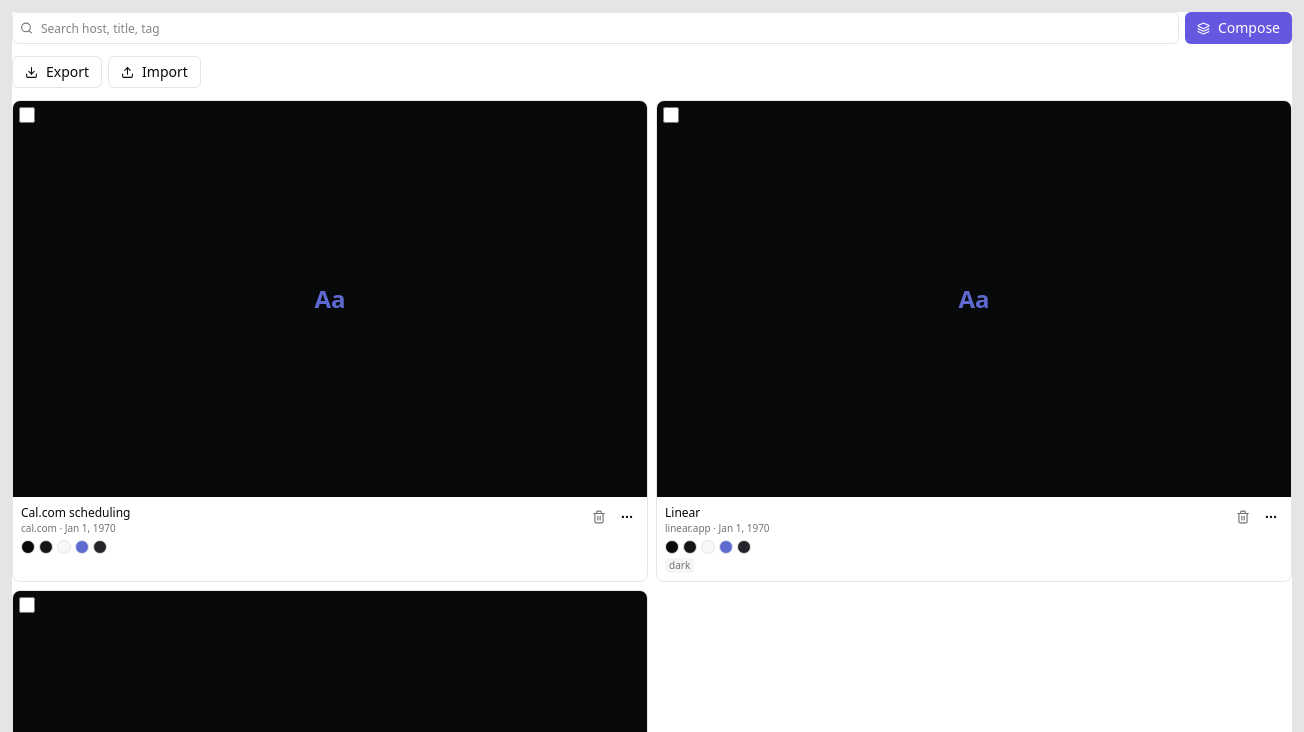
Scenario: Library view (component) › T4.07 a rename that cannot be stored shows an error and keeps the old title (audit M13)
Step 1. Click the button named "More actions" in the row of "linear.app ·" → {"x": 1271, "y": 517}, box [1259, 505, 1283, 529]
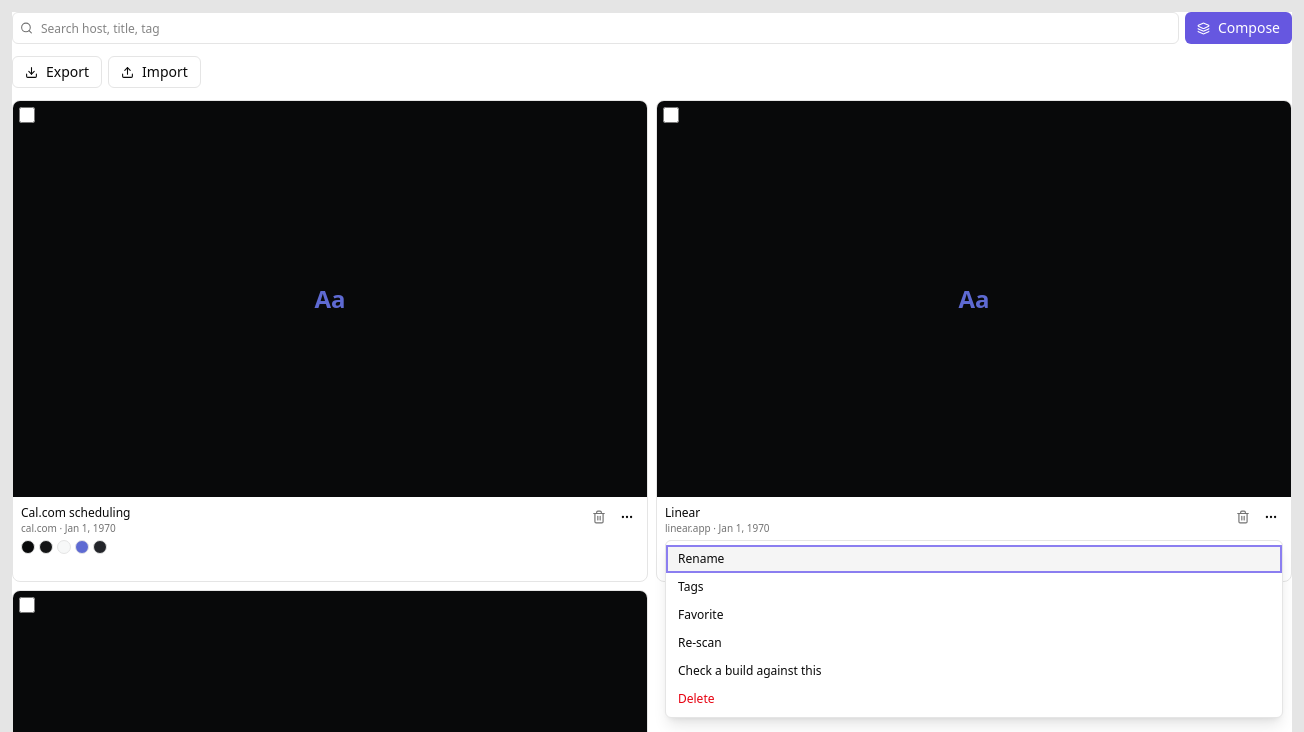
Step 2. Click the menu item "Rename" → {"x": 701, "y": 559}, box [666, 545, 1282, 573]
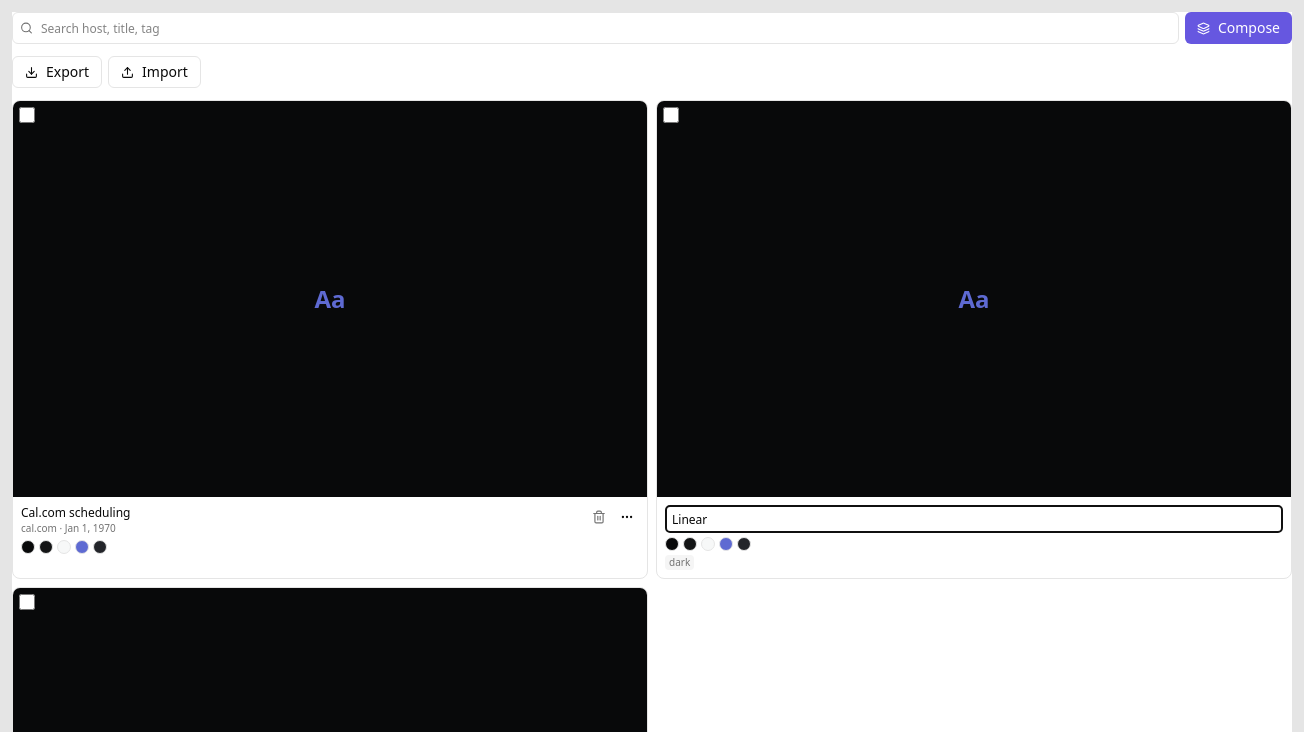
Step 3. Replace the text in the field named "Title" with "Renamed" → {"x": 974, "y": 519}, box [665, 505, 1283, 533]
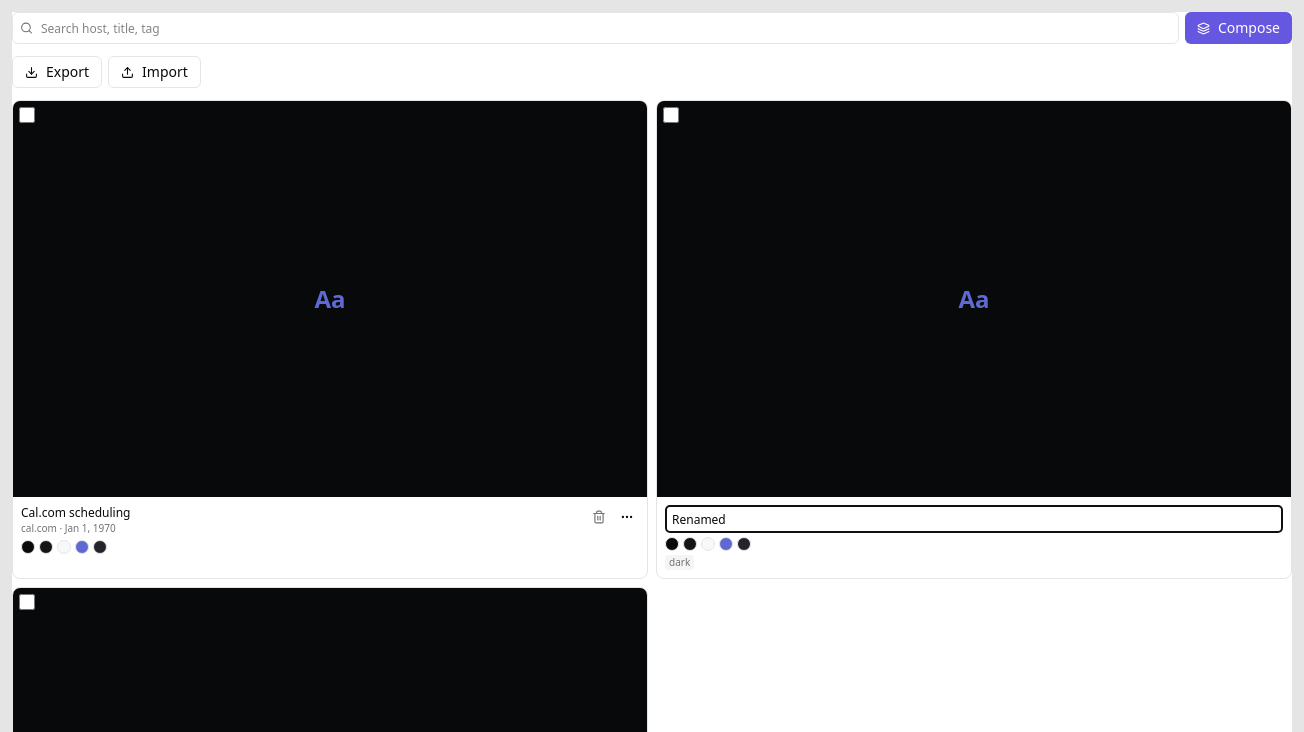
Step 4. Press Enter in the field named "Title", box [665, 505, 1283, 533]
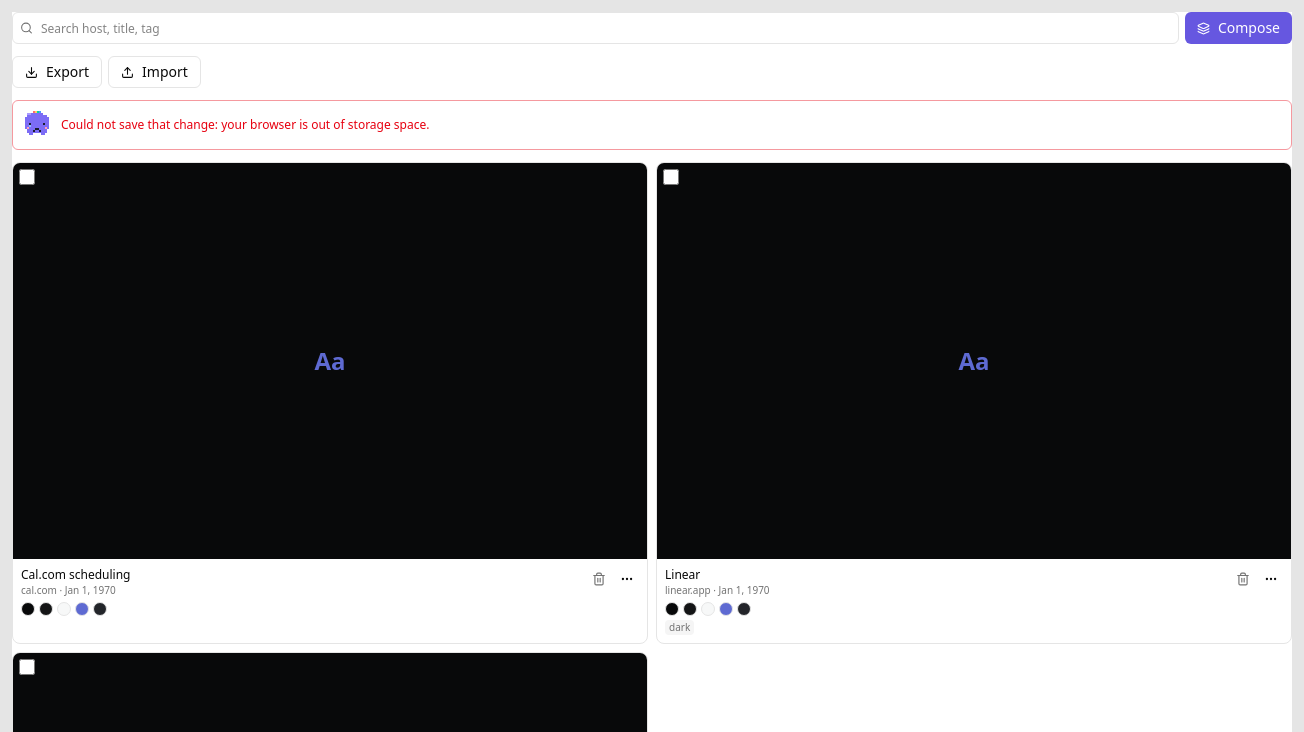
Expected: the message shows "Could not save that change: your browser is out of storage space", [61, 116, 430, 133]
Expected: the text "Linear" is shown, [665, 566, 700, 583]
Expected: the text with class "truncate" reads "Linear", [665, 566, 700, 583]
